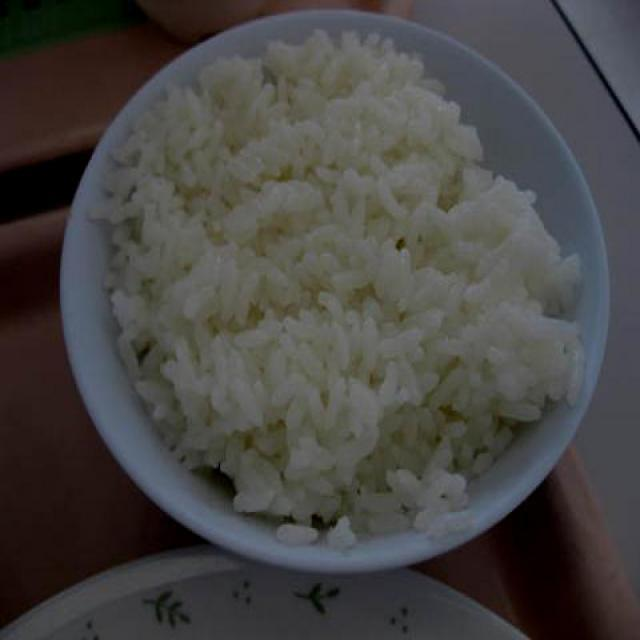rice: (103, 28, 587, 546)
